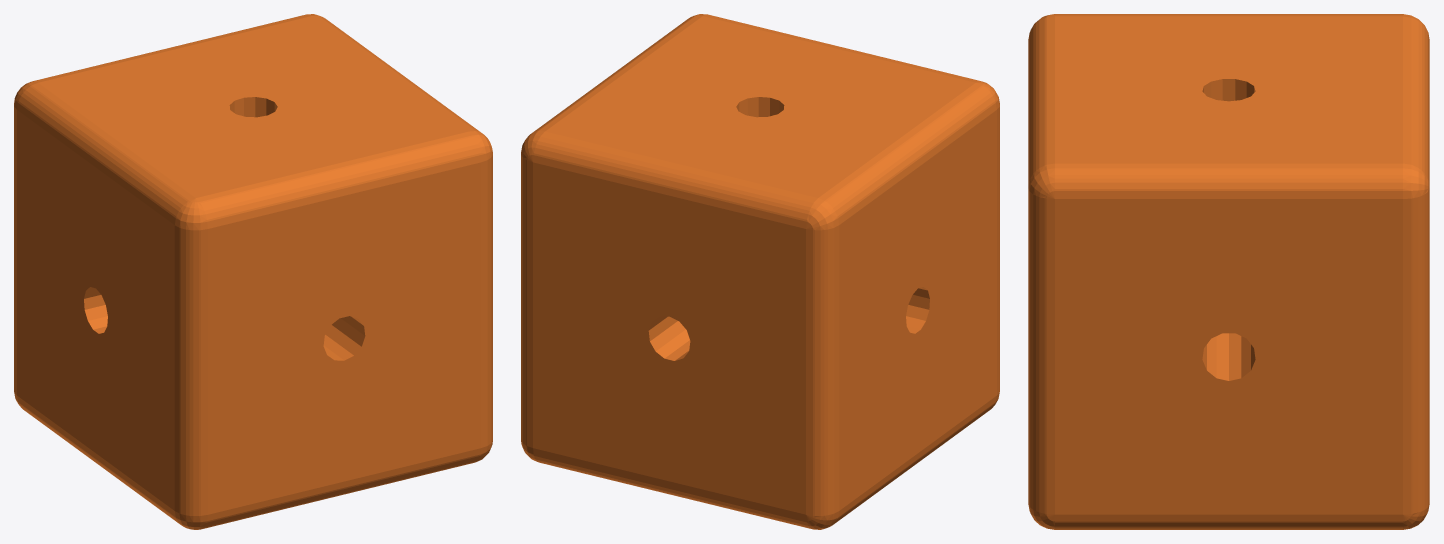
File: irb120pe_Cube.dae
3 renders of one model, left to right at view 1: azimuth 30°, elevation 25°; view 2: azimuth 150°, elevation 25°; view 3: azimuth 270°, elevation 25°, orthographic. The views are drawn at different scales.
Visible parts, largest first — view 1: node; view 2: node; view 3: node.
Part boxes in pixels (bbox=[...]): node: bbox=[14, 14, 492, 529]; node: bbox=[521, 14, 999, 529]; node: bbox=[1028, 14, 1429, 529].
Bounding box in the file's own units: 0.03 × 0.03 × 0.03.
